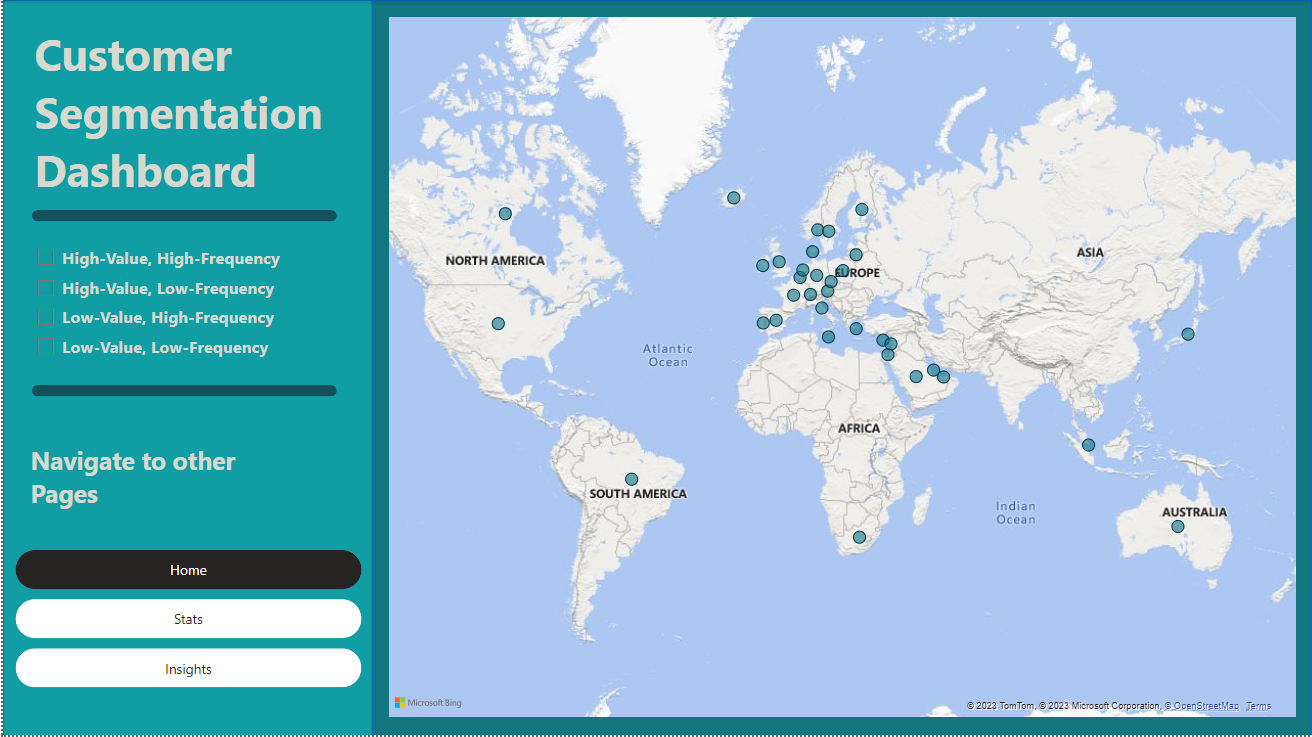

This screenshot's page, from the dashboard's own definition file:
{"tool":"powerbi","page":{"name":"Home","canvas":[1280,720],"ordinal":0},"visuals":[{"type":"shape","box":[0,0,1279.9,720],"z":0},{"type":"textbox","box":[25.7,18.3,325.2,184.6],"z":1000},{"type":"slicer","fields":{"Values":["segmentation_main.Segment"]},"box":[20.6,231.9,299.1,131.7],"z":2000},{"type":"shape","box":[28.1,205.4,298.3,11],"z":3000},{"type":"shape","box":[360.9,0,919.4,720.4],"z":4000},{"type":"map","fields":{"Category":["segmentation_main.Country"]},"box":[373.2,12.3,897.4,694.3],"z":5000},{"type":"shape","box":[28.1,376.5,298.3,11],"z":6000},{"type":"pageNavigator","box":[12.2,537.6,338.6,136.9],"z":7000},{"type":"textbox","box":[22,429.1,239.6,112.5],"z":8000}]}

Visuals, with their boxes in screenshot pixels (x1, y1, x2, y2), scaled from the page's 1280x720 canvas onto the 1312x737 screenshot:
shape: 0,0,1311,736
textbox: 26,19,360,208
slicer - segmentation_main.Segment: 21,237,328,372
shape: 29,210,335,222
shape: 370,0,1311,736
map - segmentation_main.Country: 383,13,1302,723
shape: 29,385,335,397
pageNavigator: 13,550,360,690
textbox: 23,439,268,554
